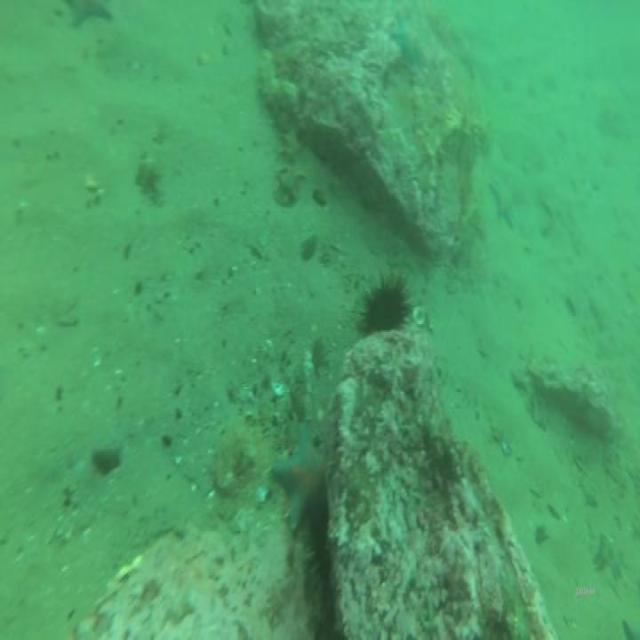echinus: (364, 282, 406, 331)
holothurian: (259, 50, 281, 114)
scallop: (253, 484, 270, 504), (414, 305, 427, 330), (271, 379, 285, 400)
starfish: (274, 423, 330, 531), (492, 176, 514, 224)
